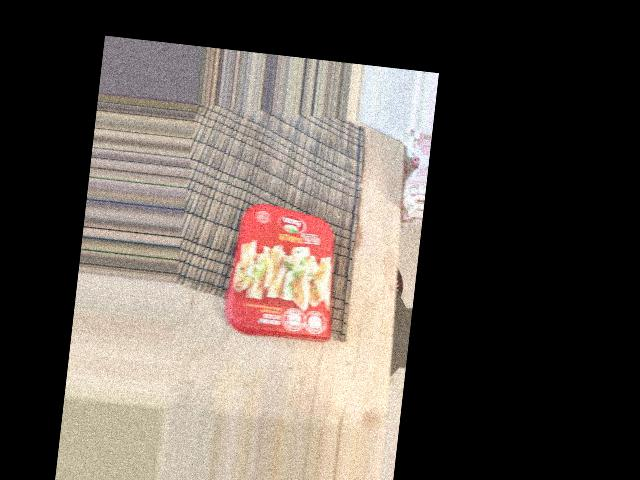cheese: (192, 166, 324, 271)
